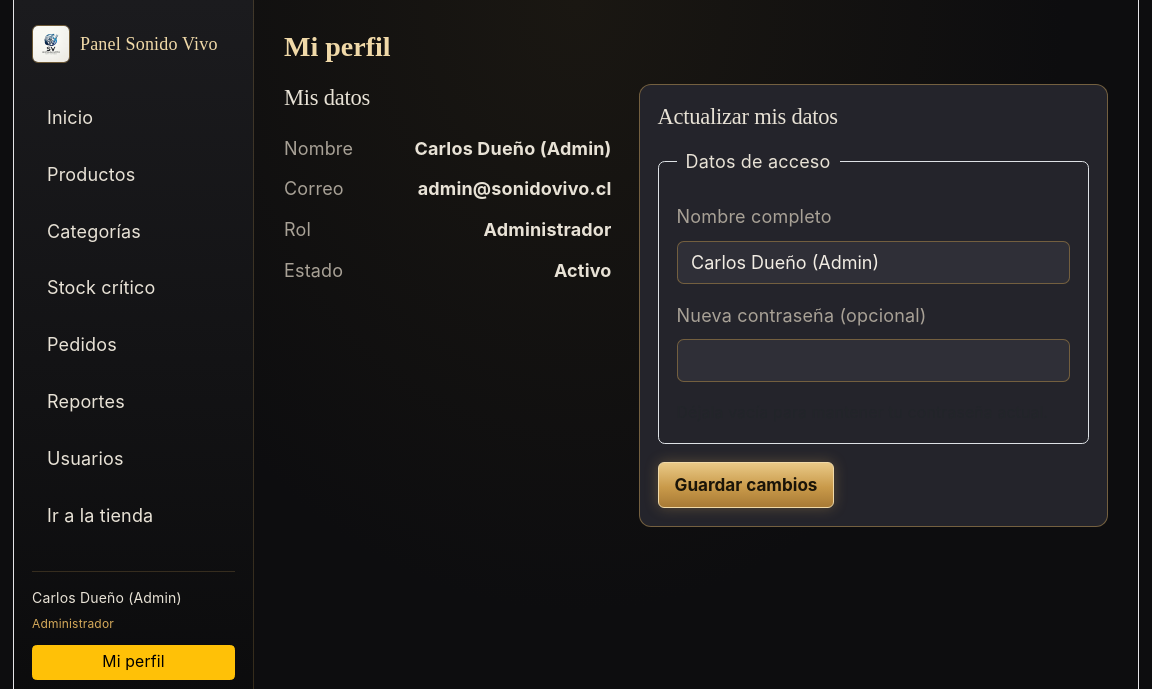
it: Página AdminPerfil › valida que la nueva contraseña tenga al menos 6 caracteres
Type "abc" into the password field labelled "Nueva contraseña (opcional)".
click(873, 361); type("abc")  # box [677, 340, 1070, 382]
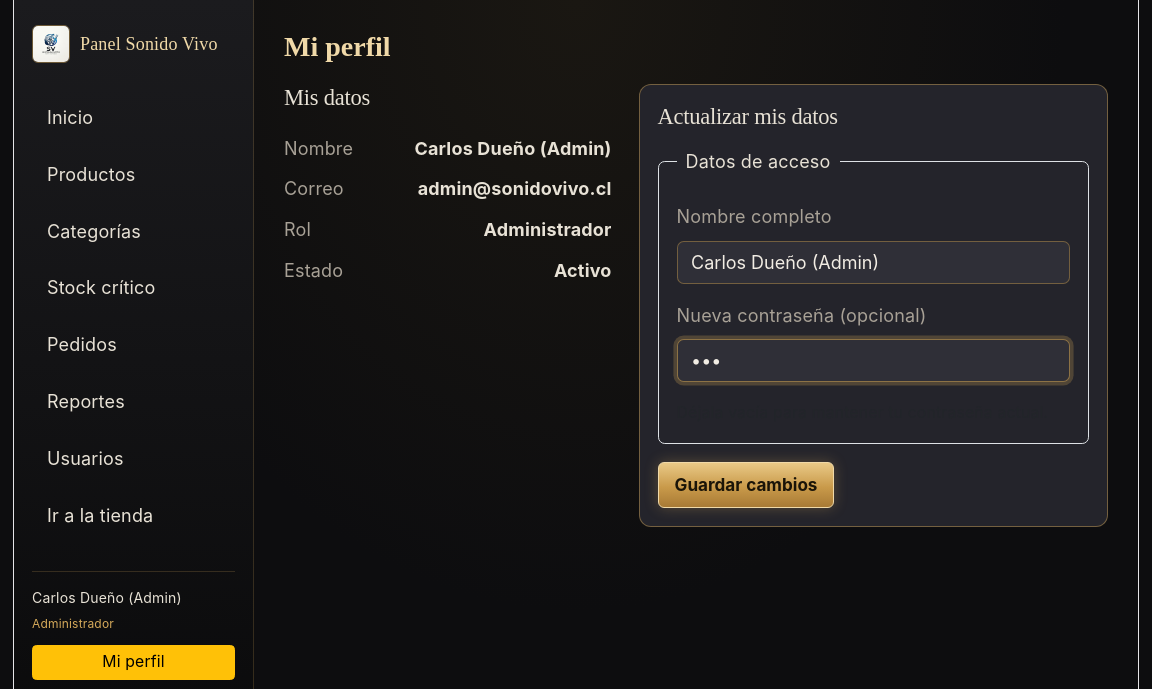
Click the button "Guardar cambios".
click(746, 485)  # box [658, 462, 834, 508]
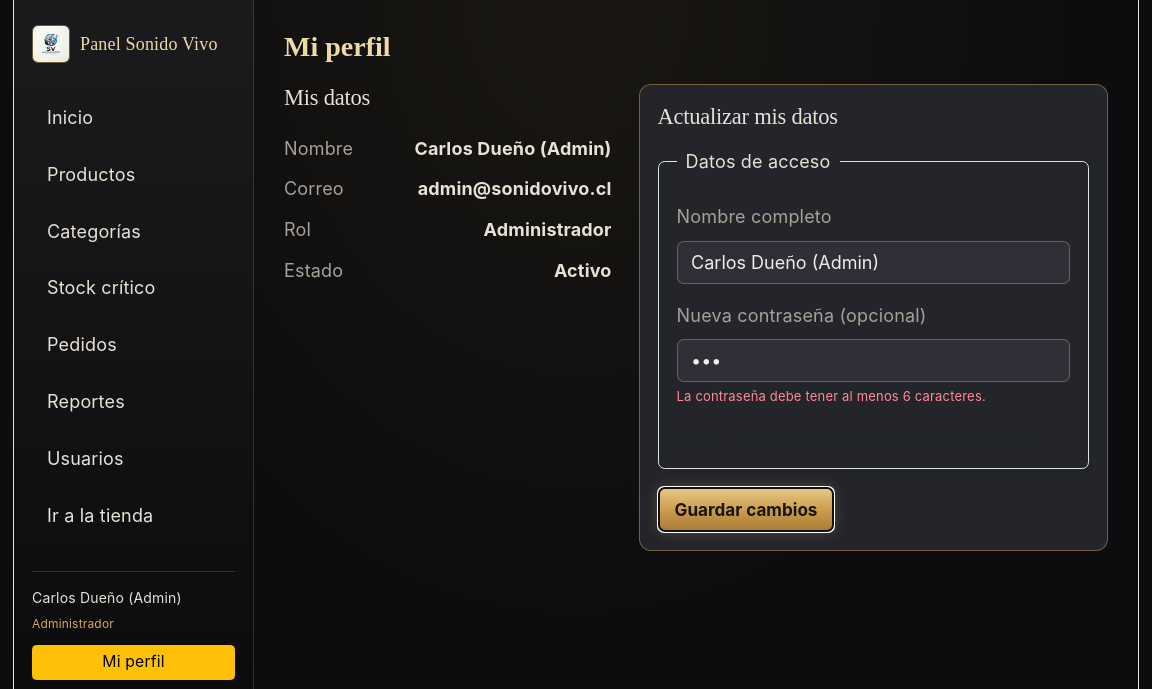
Result: the text "La contraseña debe tener al menos 6 caracteres." is shown at [677, 388, 986, 404]
